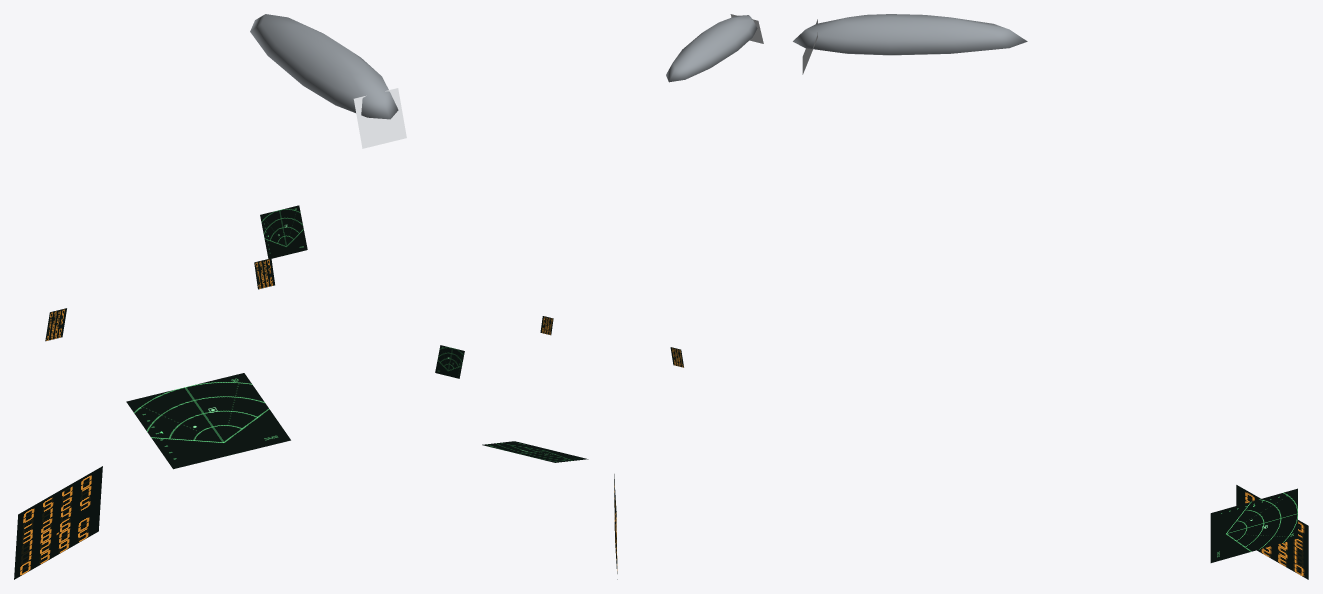
File: mig21_cockpit.glb
3 views of the same model, side by side, from view 1: azimuth 30°, elevation 25°; view 2: azimuth 150°, elevation 25°; view 3: azimuth 270°, elevation 25° (orthographic). The views are drawn at different scales.
Visible parts, largest first — view 1: mfd_screen, periscope, aux_screen_c, aux_screen_tr, periscope_mirror, aux_screen_l, aux_screen_r; view 2: periscope, mfd_screen, aux_screen_tr; view 3: periscope, mfd_screen, aux_screen_c.
Part boxes in pixels (x1=…): mfd_screen: x1=126, y1=373, x2=290, y2=469; periscope: x1=250, y1=14, x2=398, y2=119; aux_screen_c: x1=14, y1=466, x2=102, y2=579; aux_screen_tr: x1=260, y1=205, x2=307, y2=258; periscope_mirror: x1=353, y1=88, x2=406, y2=148; aux_screen_l: x1=45, y1=308, x2=66, y2=341; aux_screen_r: x1=254, y1=258, x2=274, y2=289; periscope: x1=666, y1=15, x2=757, y2=82; mfd_screen: x1=482, y1=441, x2=588, y2=462; aux_screen_tr: x1=435, y1=345, x2=464, y2=378; periscope: x1=793, y1=14, x2=1027, y2=55; mfd_screen: x1=1210, y1=488, x2=1297, y2=562; aux_screen_c: x1=1236, y1=485, x2=1308, y2=579.
Size of the model in its own units: 0.3716 by 0.7376 by 0.5787.
4 materials, 2 textured.
